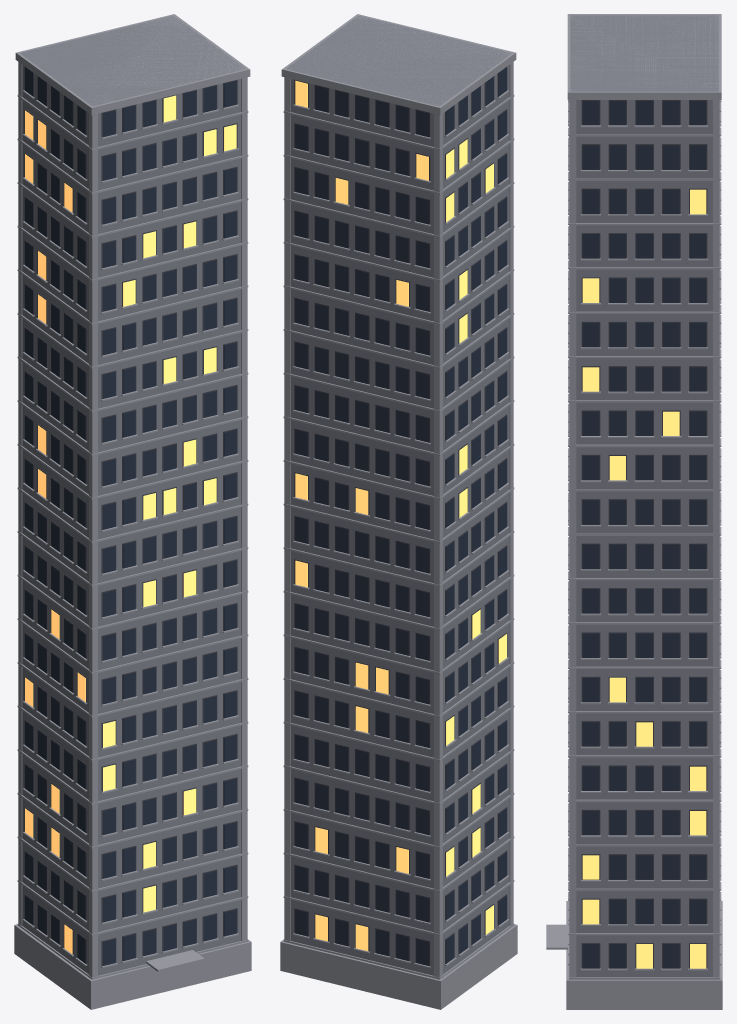
Rendered from tower.glb.
3 views of the same model, side by side, from view 1: azimuth 30°, elevation 25°; view 2: azimuth 150°, elevation 25°; view 3: azimuth 270°, elevation 25° (orthographic).
Parts seen in each view (by area): view 1: concrete, glass, band, frame, lit; view 2: concrete, glass, band, frame, lit; view 3: concrete, band, glass, frame, lit.
Part boxes in pixels (x1,y1,x2,y2): concrete: (20,16,245,975); glass: (25,67,236,965); band: (14,14,251,1009); frame: (24,66,237,966); lit: (25,95,236,953); concrete: (286,16,511,975); glass: (295,67,506,965); band: (280,14,517,1009); frame: (294,66,507,966); lit: (295,80,506,950); concrete: (570,15,718,977); band: (546,14,722,1009); glass: (582,101,706,968); frame: (581,100,707,968); lit: (582,189,706,968).
Size of the model in its own units: 11.7 by 62.7 by 10.95.
